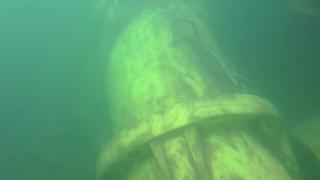pipe: (96, 2, 296, 180), (286, 123, 320, 180)
